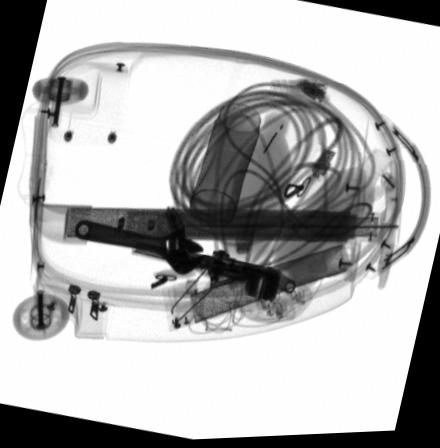Pliers: (131, 240, 281, 303)
Wrench: (73, 219, 205, 275)
